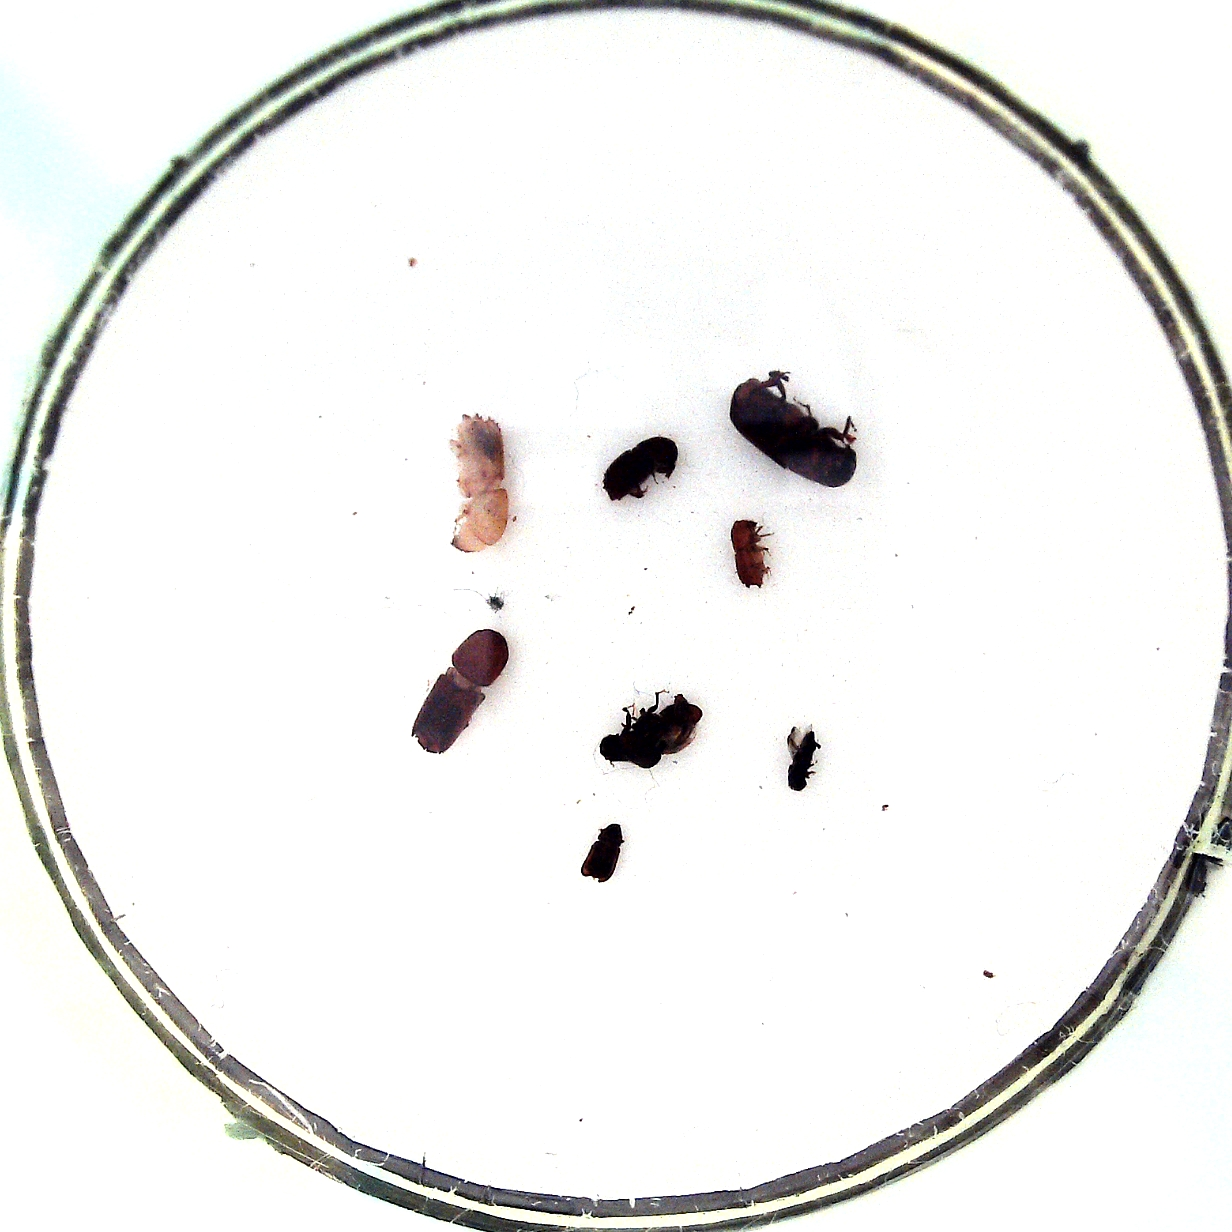Boerner: (410, 630, 509, 754), (450, 414, 509, 552)
Leconte: (730, 378, 857, 487)
acuminatus: (787, 732, 815, 791)
armandi: (599, 695, 704, 768)
coleoptera: (732, 520, 769, 588), (580, 824, 622, 882)
linnaeus: (601, 435, 679, 501)
